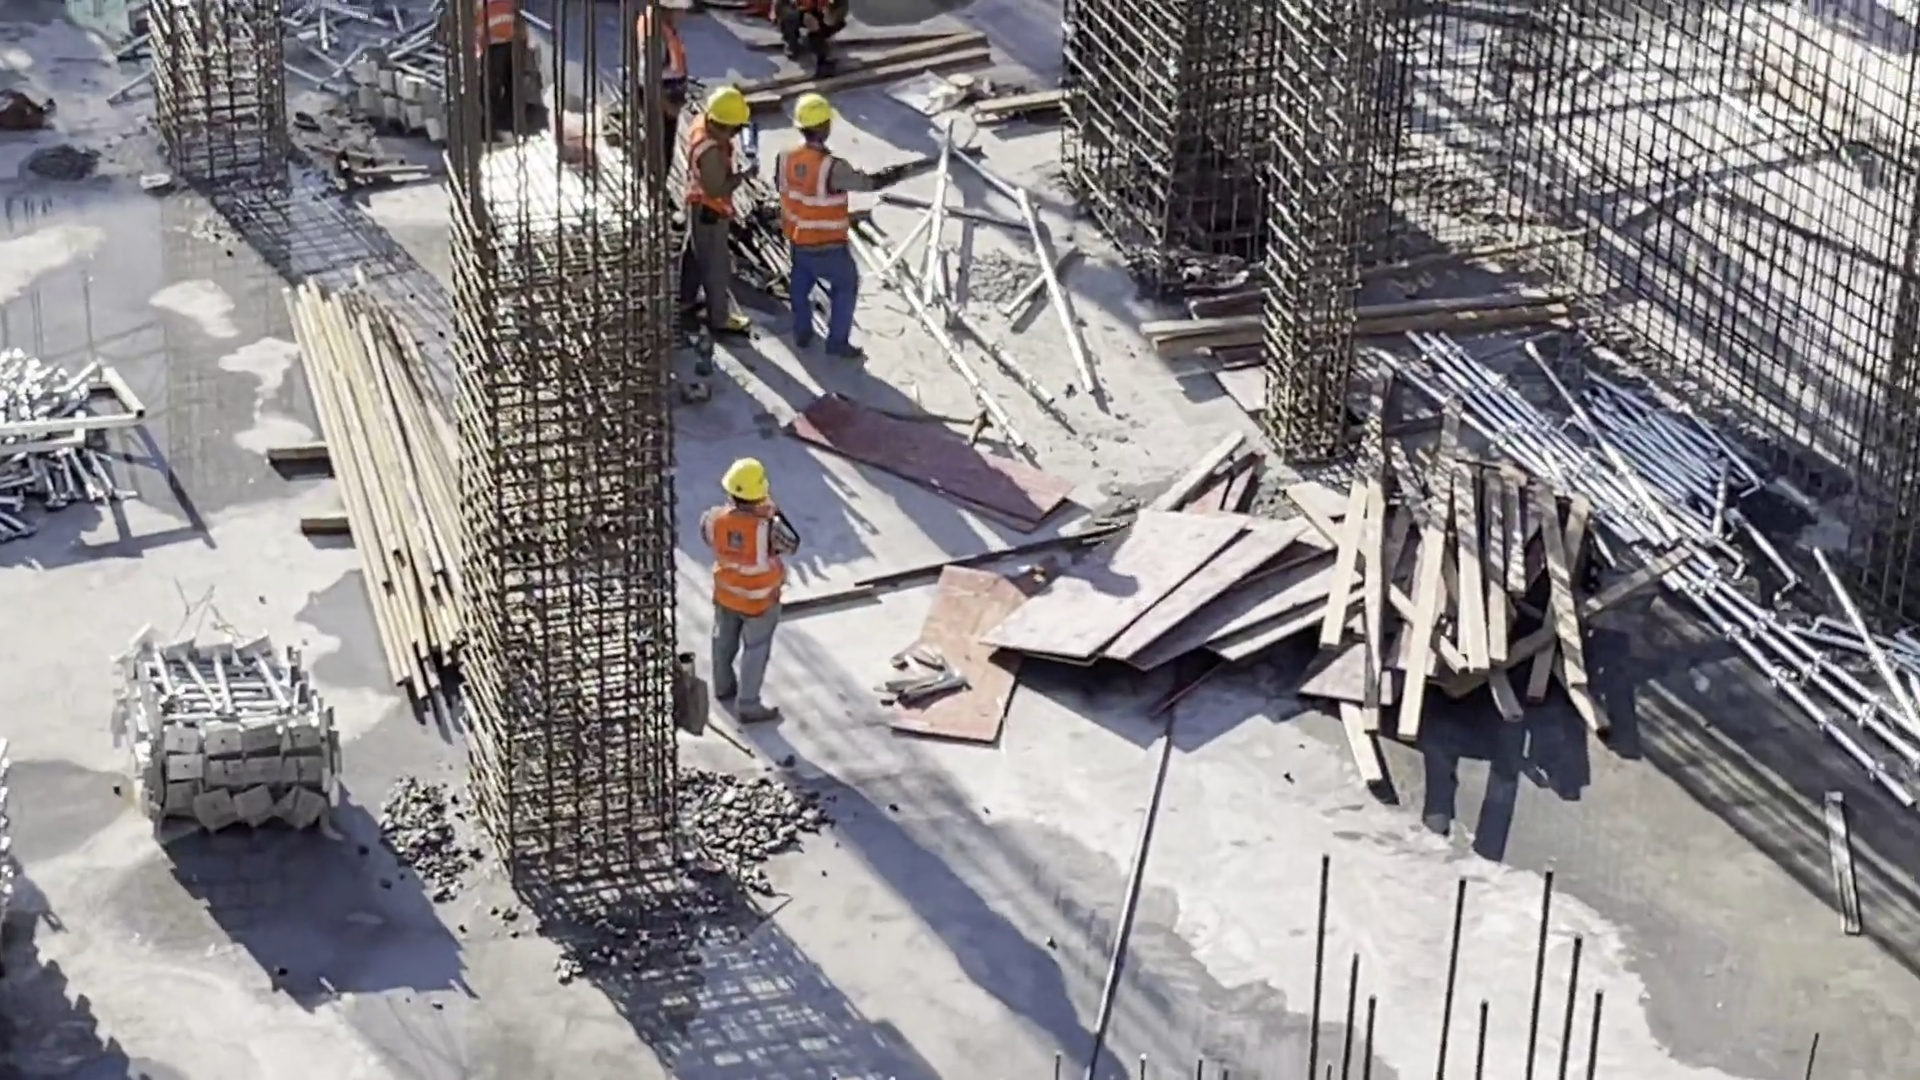board: (987, 516, 1323, 692)
helmet: (700, 87, 767, 134), (792, 90, 851, 135), (725, 453, 767, 506)
person: (683, 436, 805, 732), (771, 97, 880, 360), (682, 89, 767, 348), (615, 1, 691, 205), (476, 1, 555, 141), (744, 4, 878, 63)
scaffold: (1495, 330, 1878, 718), (109, 612, 337, 837), (1, 358, 159, 562)
vest: (689, 511, 797, 609), (775, 153, 849, 256), (628, 6, 686, 89), (693, 137, 741, 219), (491, 6, 528, 53)
wood: (1342, 385, 1609, 776)
